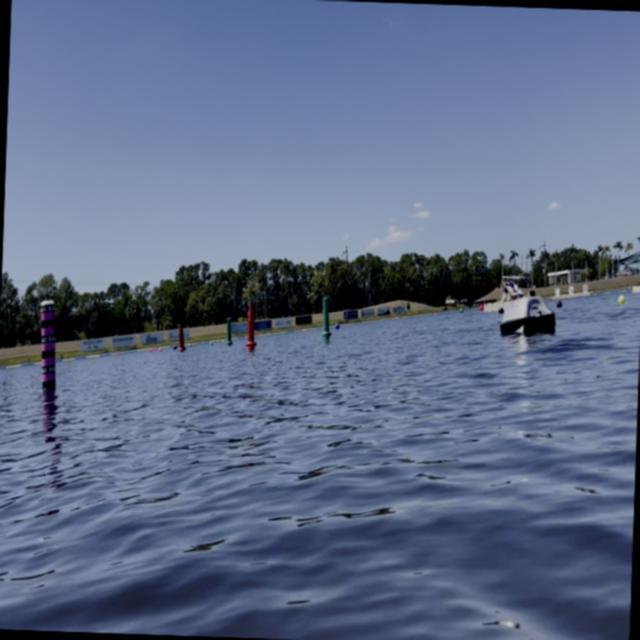buoy: (618, 292, 624, 302), (557, 300, 562, 310), (335, 319, 340, 328), (498, 306, 502, 313), (479, 302, 482, 311), (460, 306, 462, 312)
